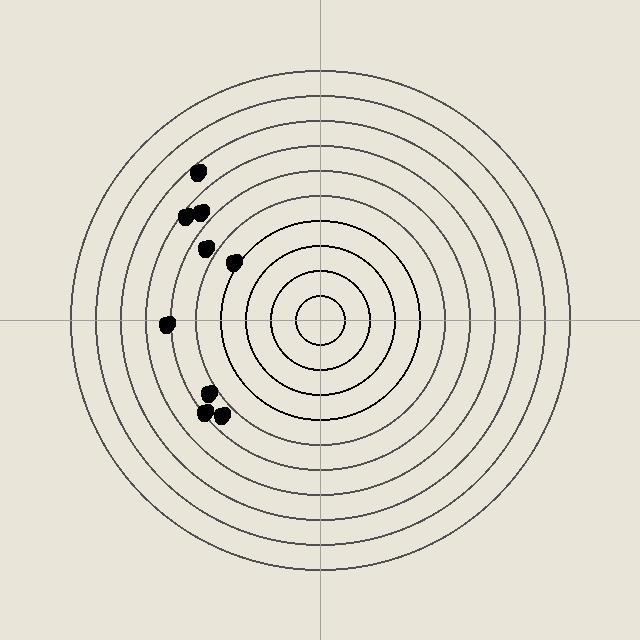vertical_scatter: (198, 383, 218, 403), (156, 314, 176, 334), (223, 252, 243, 272), (187, 162, 207, 182), (194, 402, 214, 422), (190, 202, 210, 222), (195, 238, 215, 258), (211, 405, 231, 425), (175, 206, 195, 226)
